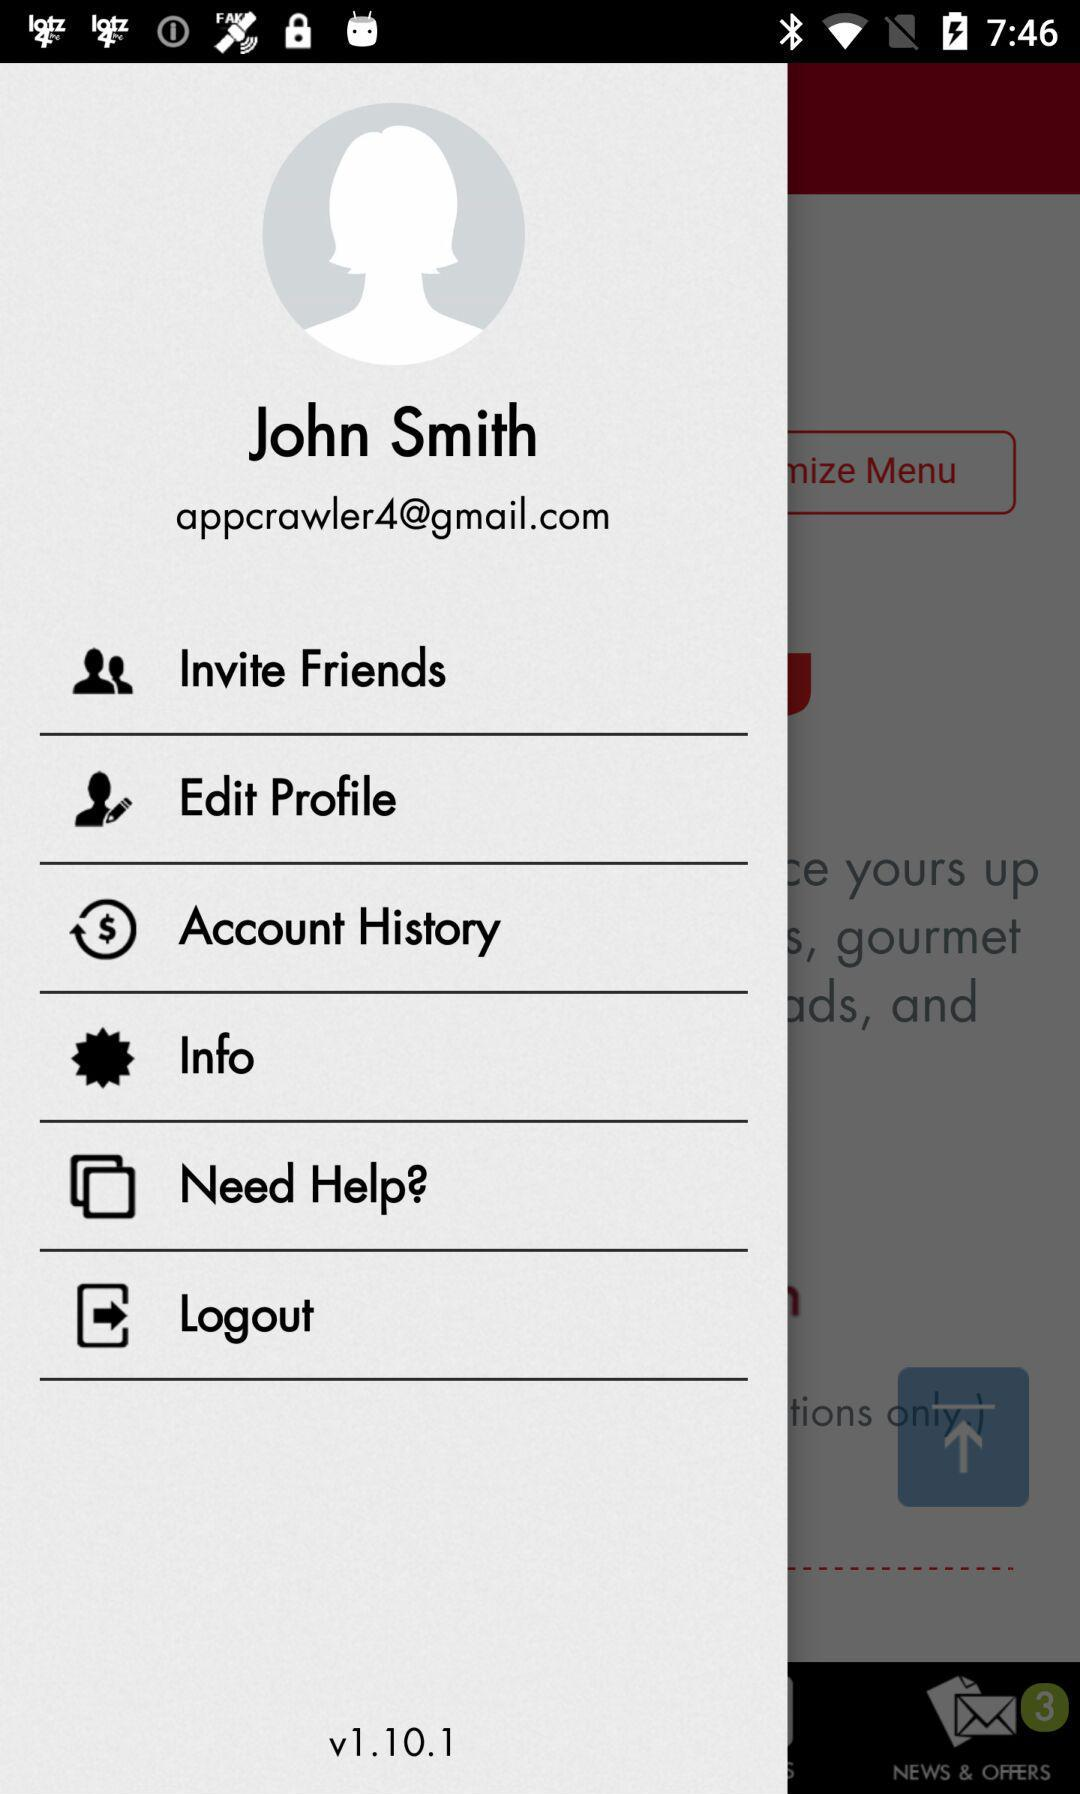Drawer: (1, 64, 788, 1794)
Icon: (263, 103, 527, 366), (69, 1155, 138, 1221), (69, 898, 138, 962), (77, 1281, 131, 1349), (74, 771, 135, 829), (73, 647, 135, 696)
Image: (70, 1026, 137, 1090)
Text: (176, 493, 611, 542), (249, 400, 538, 463), (177, 903, 503, 959), (179, 1160, 429, 1217), (179, 645, 447, 689), (181, 773, 398, 818), (181, 1293, 316, 1345), (325, 1722, 454, 1757), (181, 1032, 256, 1076)
UpperTaskBar: (1, 1, 1080, 64)
